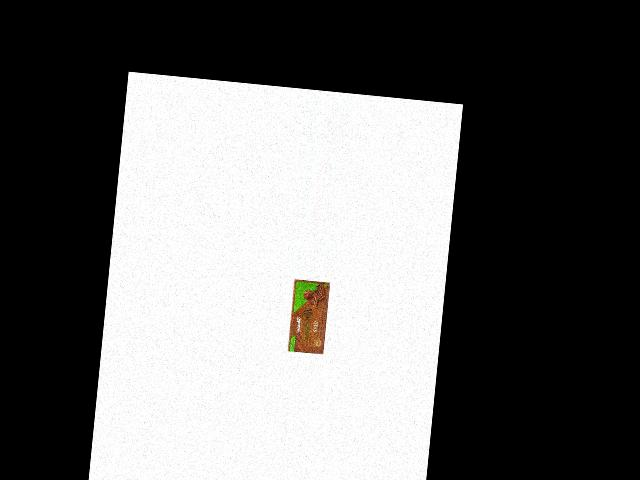chocolate: (284, 278, 331, 357)
